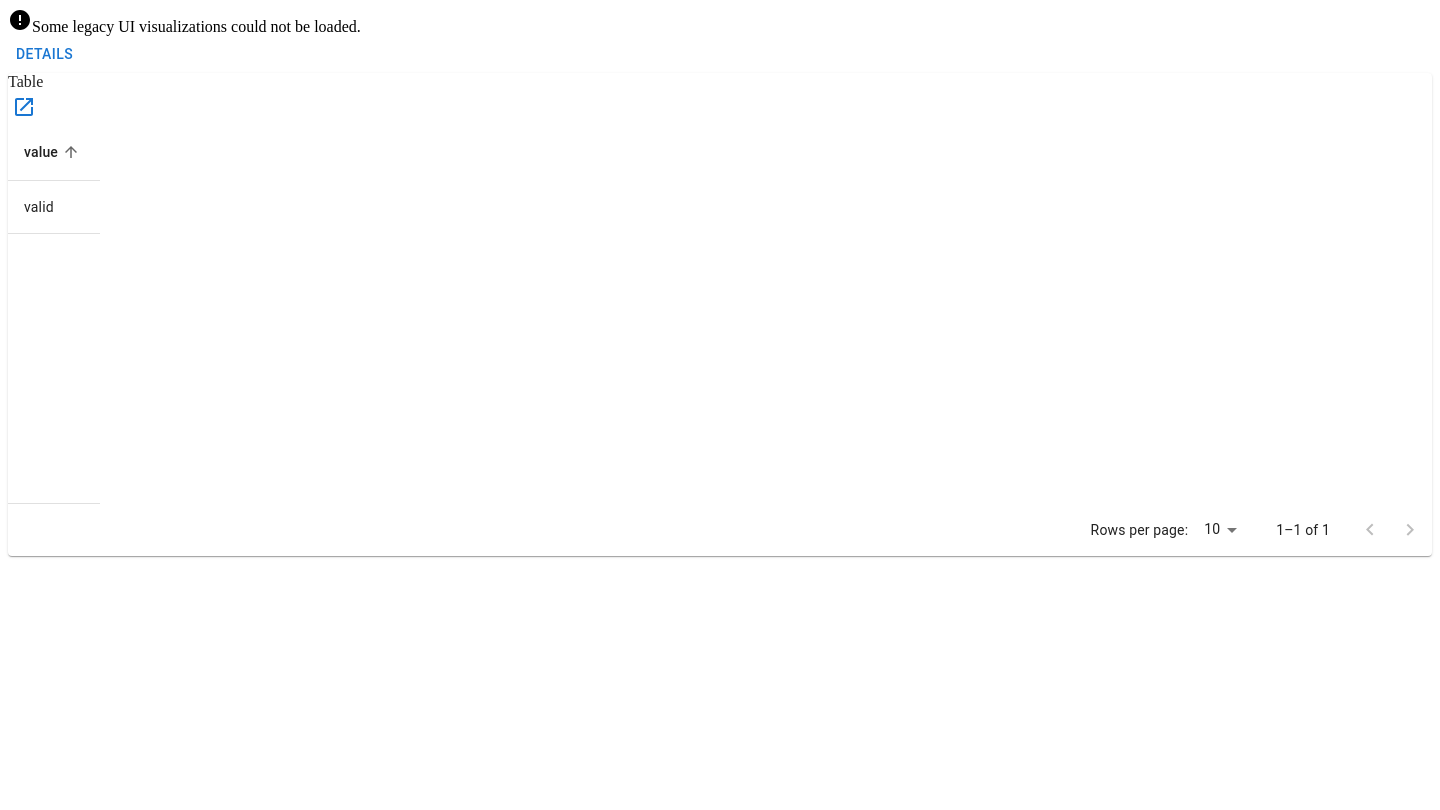
Test: RuntimeMetricsVisualizations › renders valid legacy viewers when a sibling viewer fails to load
The image size is (1440, 810).
Expected: the text "valid" is shown, [8, 180, 100, 233]
Expected: the text "Some legacy UI visualizations could not be loaded." is shown, [8, 8, 361, 35]
Click the button "Details": (44, 54) [8, 36, 81, 72]
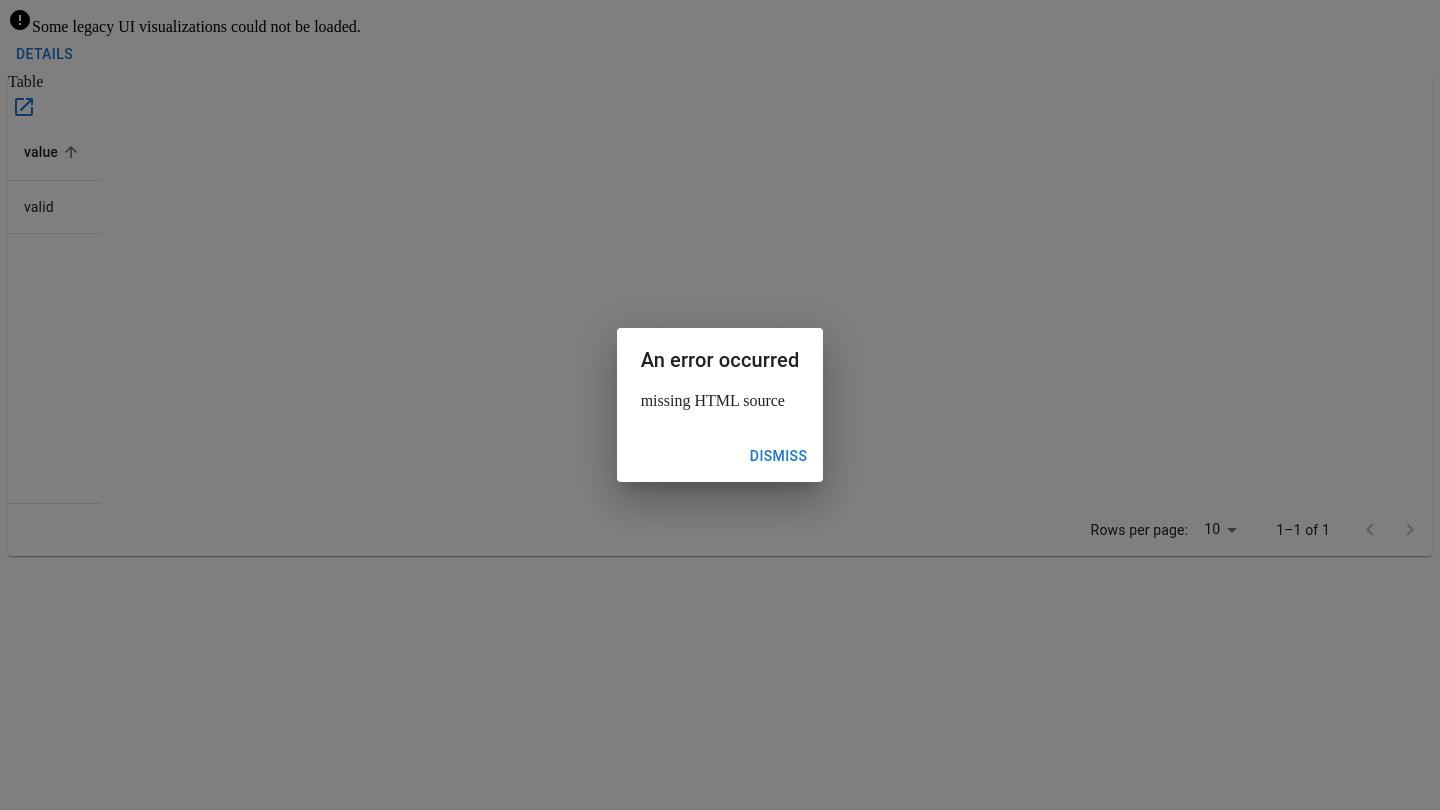
Expected: the text "missing HTML source" is shown, [641, 392, 785, 409]
